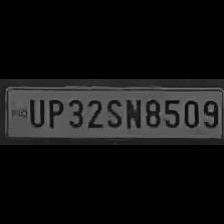0: (180, 96, 200, 128)
2: (83, 95, 103, 129)
3: (64, 96, 84, 128)
5: (161, 96, 181, 128)
8: (142, 96, 162, 128)
9: (198, 96, 220, 130)
N: (122, 96, 142, 130)
P: (44, 96, 64, 128)
S: (103, 96, 123, 128)
U: (24, 95, 46, 127)
